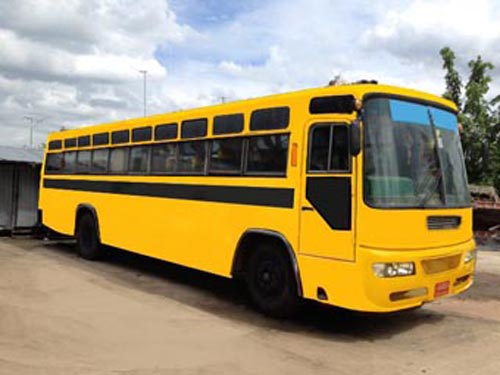bus: (38, 80, 477, 318)
